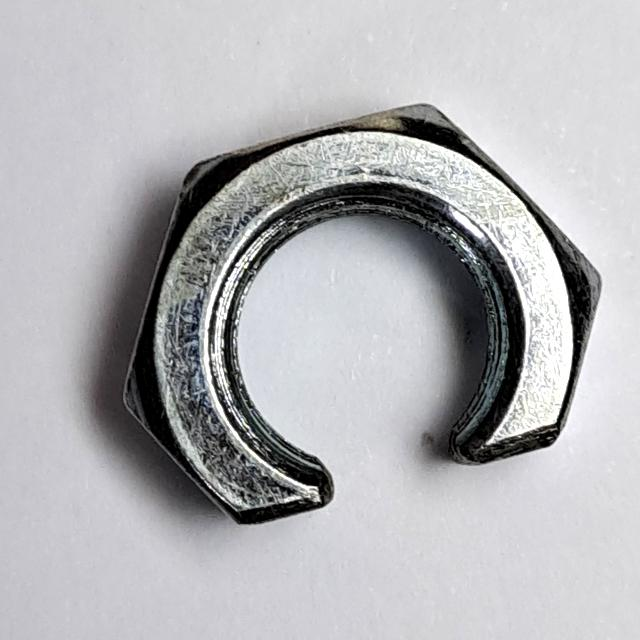Fracture: (105, 81, 613, 539)
